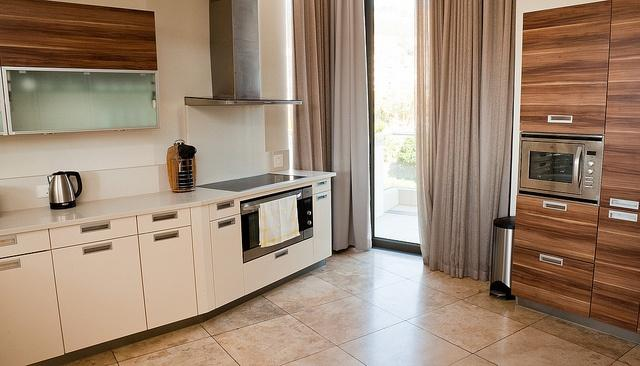Lemari: (509, 0, 639, 344)
